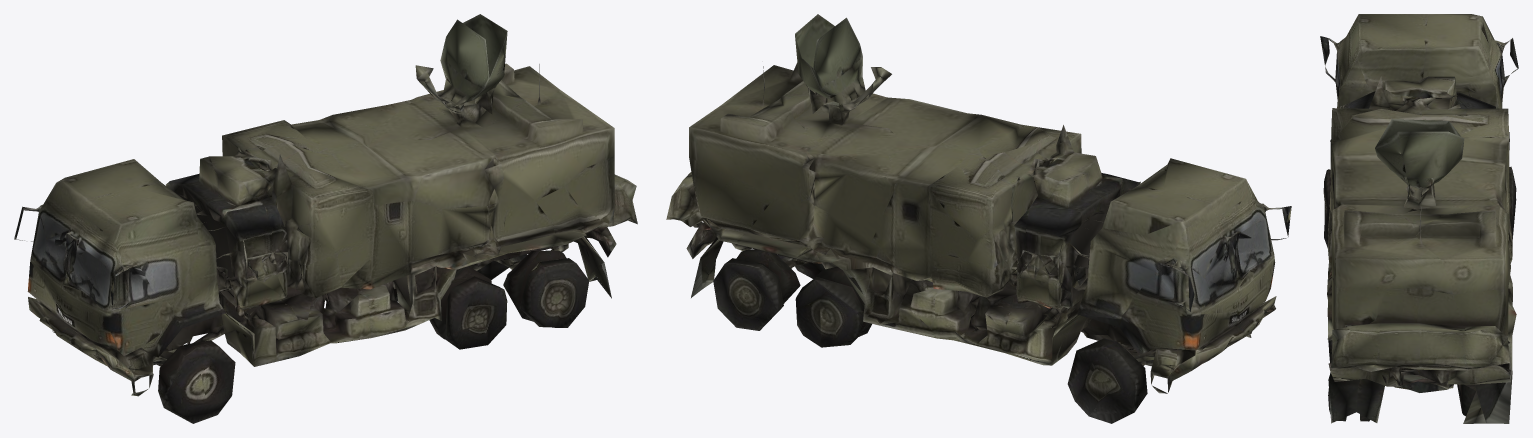
The model's file is radar_truck.glb.
The picture shows the model from 3 angles, left to right: view 1: azimuth 30°, elevation 25°; view 2: azimuth 150°, elevation 25°; view 3: azimuth 270°, elevation 25°; orthographic projection.
Parts seen in each view (by area): view 1: radar_truck; view 2: radar_truck; view 3: radar_truck.
Part boxes in pixels (box(x1,y1,x2,y2)): radar_truck: box(14, 14, 637, 423); radar_truck: box(666, 14, 1291, 423); radar_truck: box(1320, 14, 1518, 423).
Bounding box in the file's own units: 1.89 × 0.9514 × 0.6103.
Materials: 1 (1 with a texture image).
